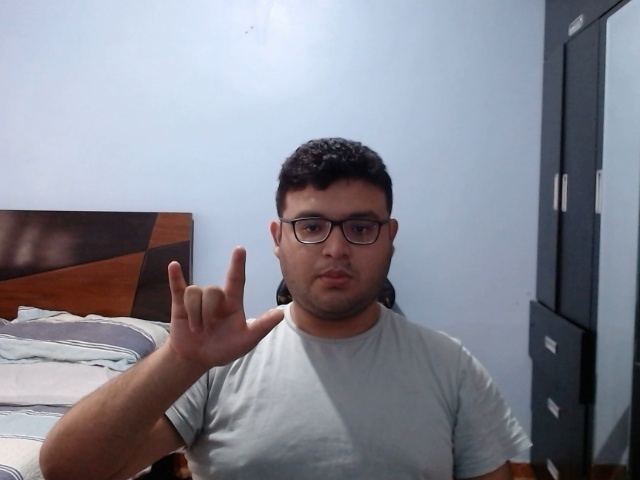I love you: (158, 244, 288, 376)
